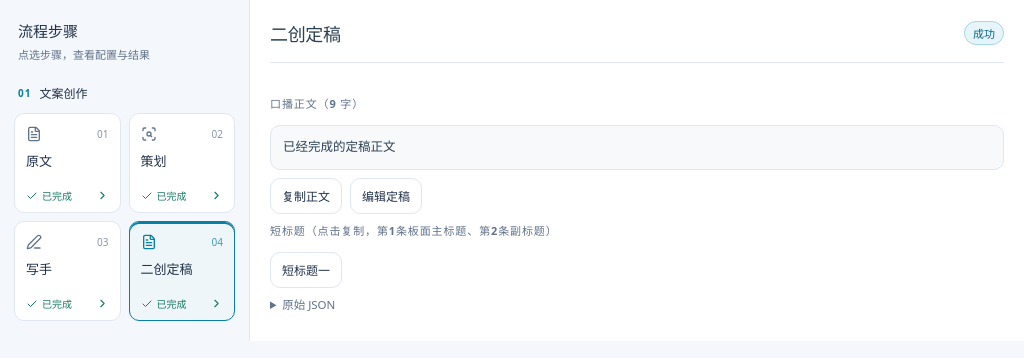
Test: fixed steps retain all agents and show the selected stage actual output
This screenshot has width=1024, height=358.
Expected: the text "已经完成的定稿正文" is shown, [270,125,1004,170]
Click the button "02 策划 已完成".
click(182, 163)  # box [128,113,235,213]
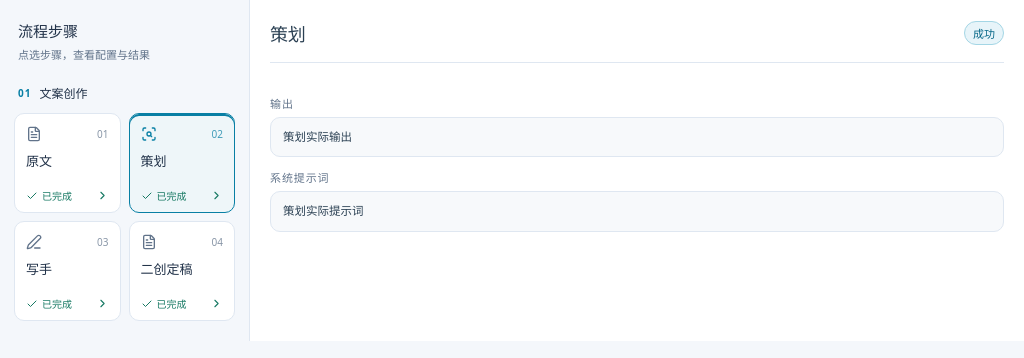
Expected: the element named "策划详情" shows "策划实际输出", [283,130,352,144]
Expected: the text "策划实际提示词" is shown, [270,191,1004,232]
Click the button "01 原文 已完成".
click(67, 163)  # box [14,113,120,213]
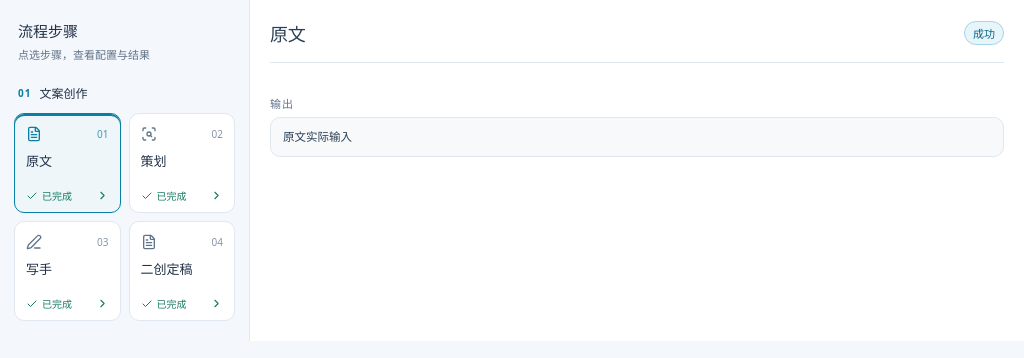
Expected: the text "原文实际输入" is shown, [270,117,1004,157]
